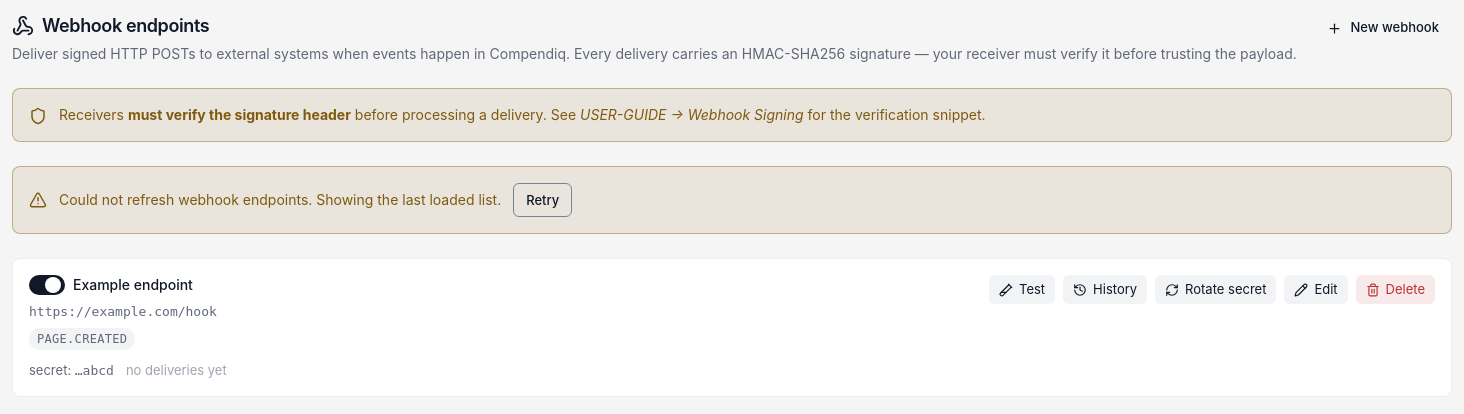
Test: webhook list read states › retains loaded rows when a refresh fails and recovers on retry
Expected: the text "Example endpoint" is shown, left=73, top=275, right=193, bottom=295
Expected: the message with test id "webhooks-read-error" shows "Showing the last loaded list", left=59, top=191, right=501, bottom=208
Click the button "Retry" at (543, 200), box left=513, top=183, right=572, bottom=217
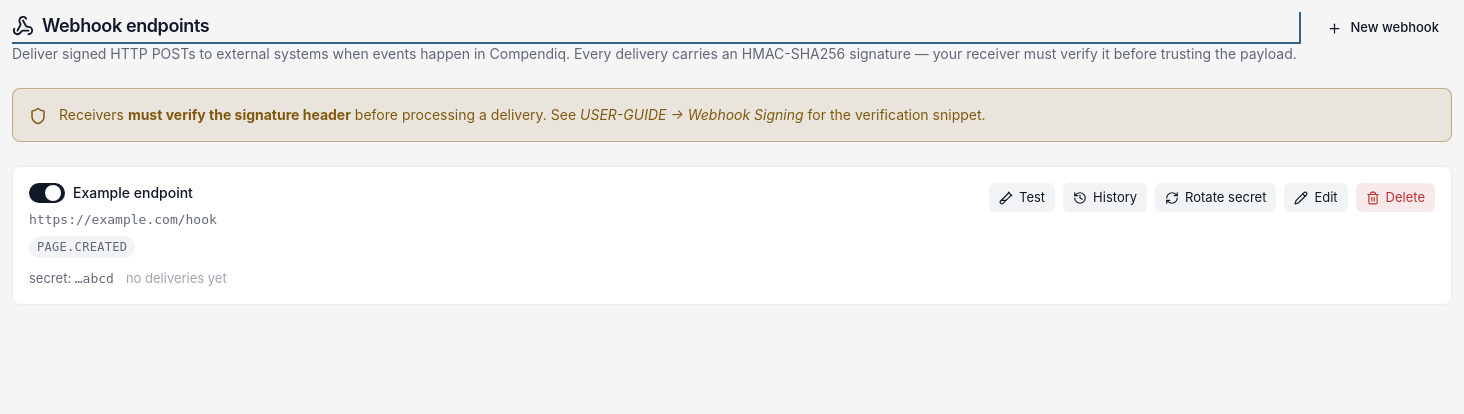
Expected: the text "Example endpoint" is shown, left=73, top=183, right=193, bottom=203
Now the message with test id "webhooks-read-error" is gone
